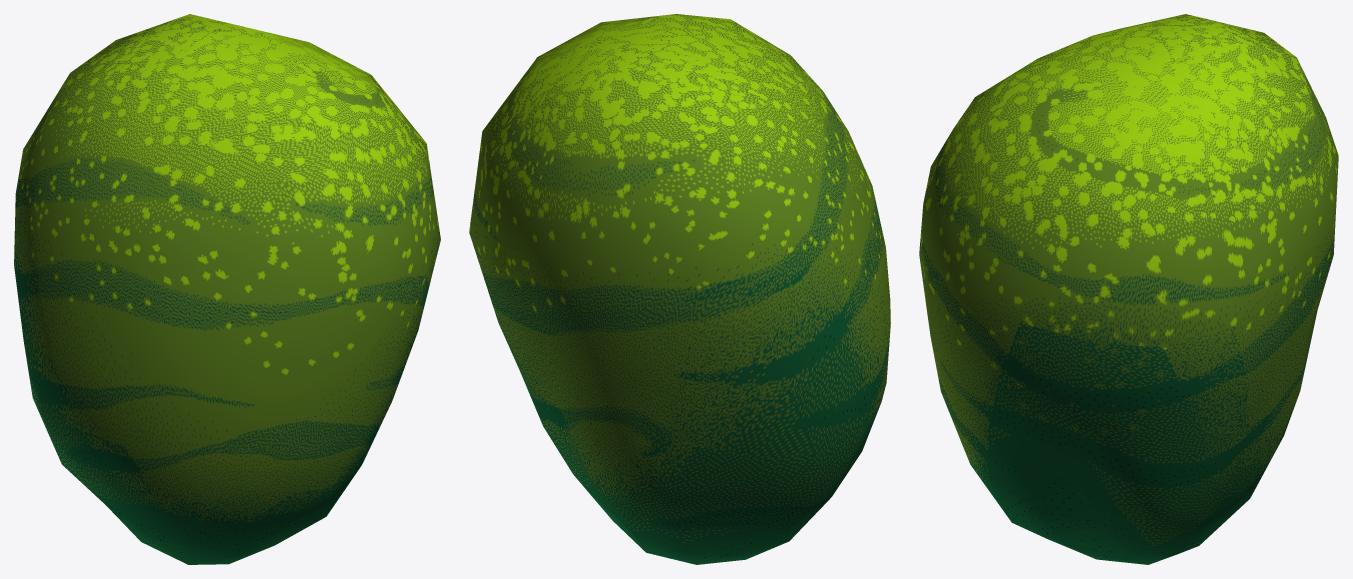
File: shrub-round-1c.fbx
3 renders of one model, left to right at view 1: azimuth 30°, elevation 25°; view 2: azimuth 150°, elevation 25°; view 3: azimuth 270°, elevation 25°, orthographic. The views are drawn at different scales.
Parts seen in each view (by area): view 1: Icosphere; view 2: Icosphere; view 3: Icosphere.
Part boxes in pixels (x1,y1,x2,y2): Icosphere: (14,14,440,564); Icosphere: (469,14,890,564); Icosphere: (919,14,1338,564).
Bounding box in the file's own units: 237 × 311 × 223.
1 material, 1 textured.
